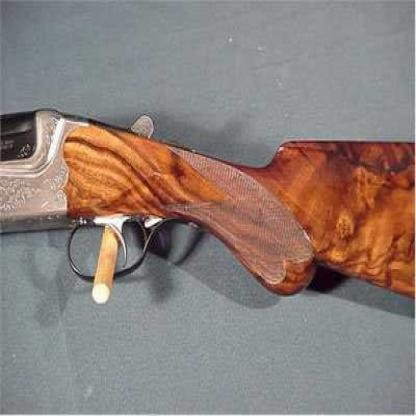rifle: (0, 25, 209, 304)
